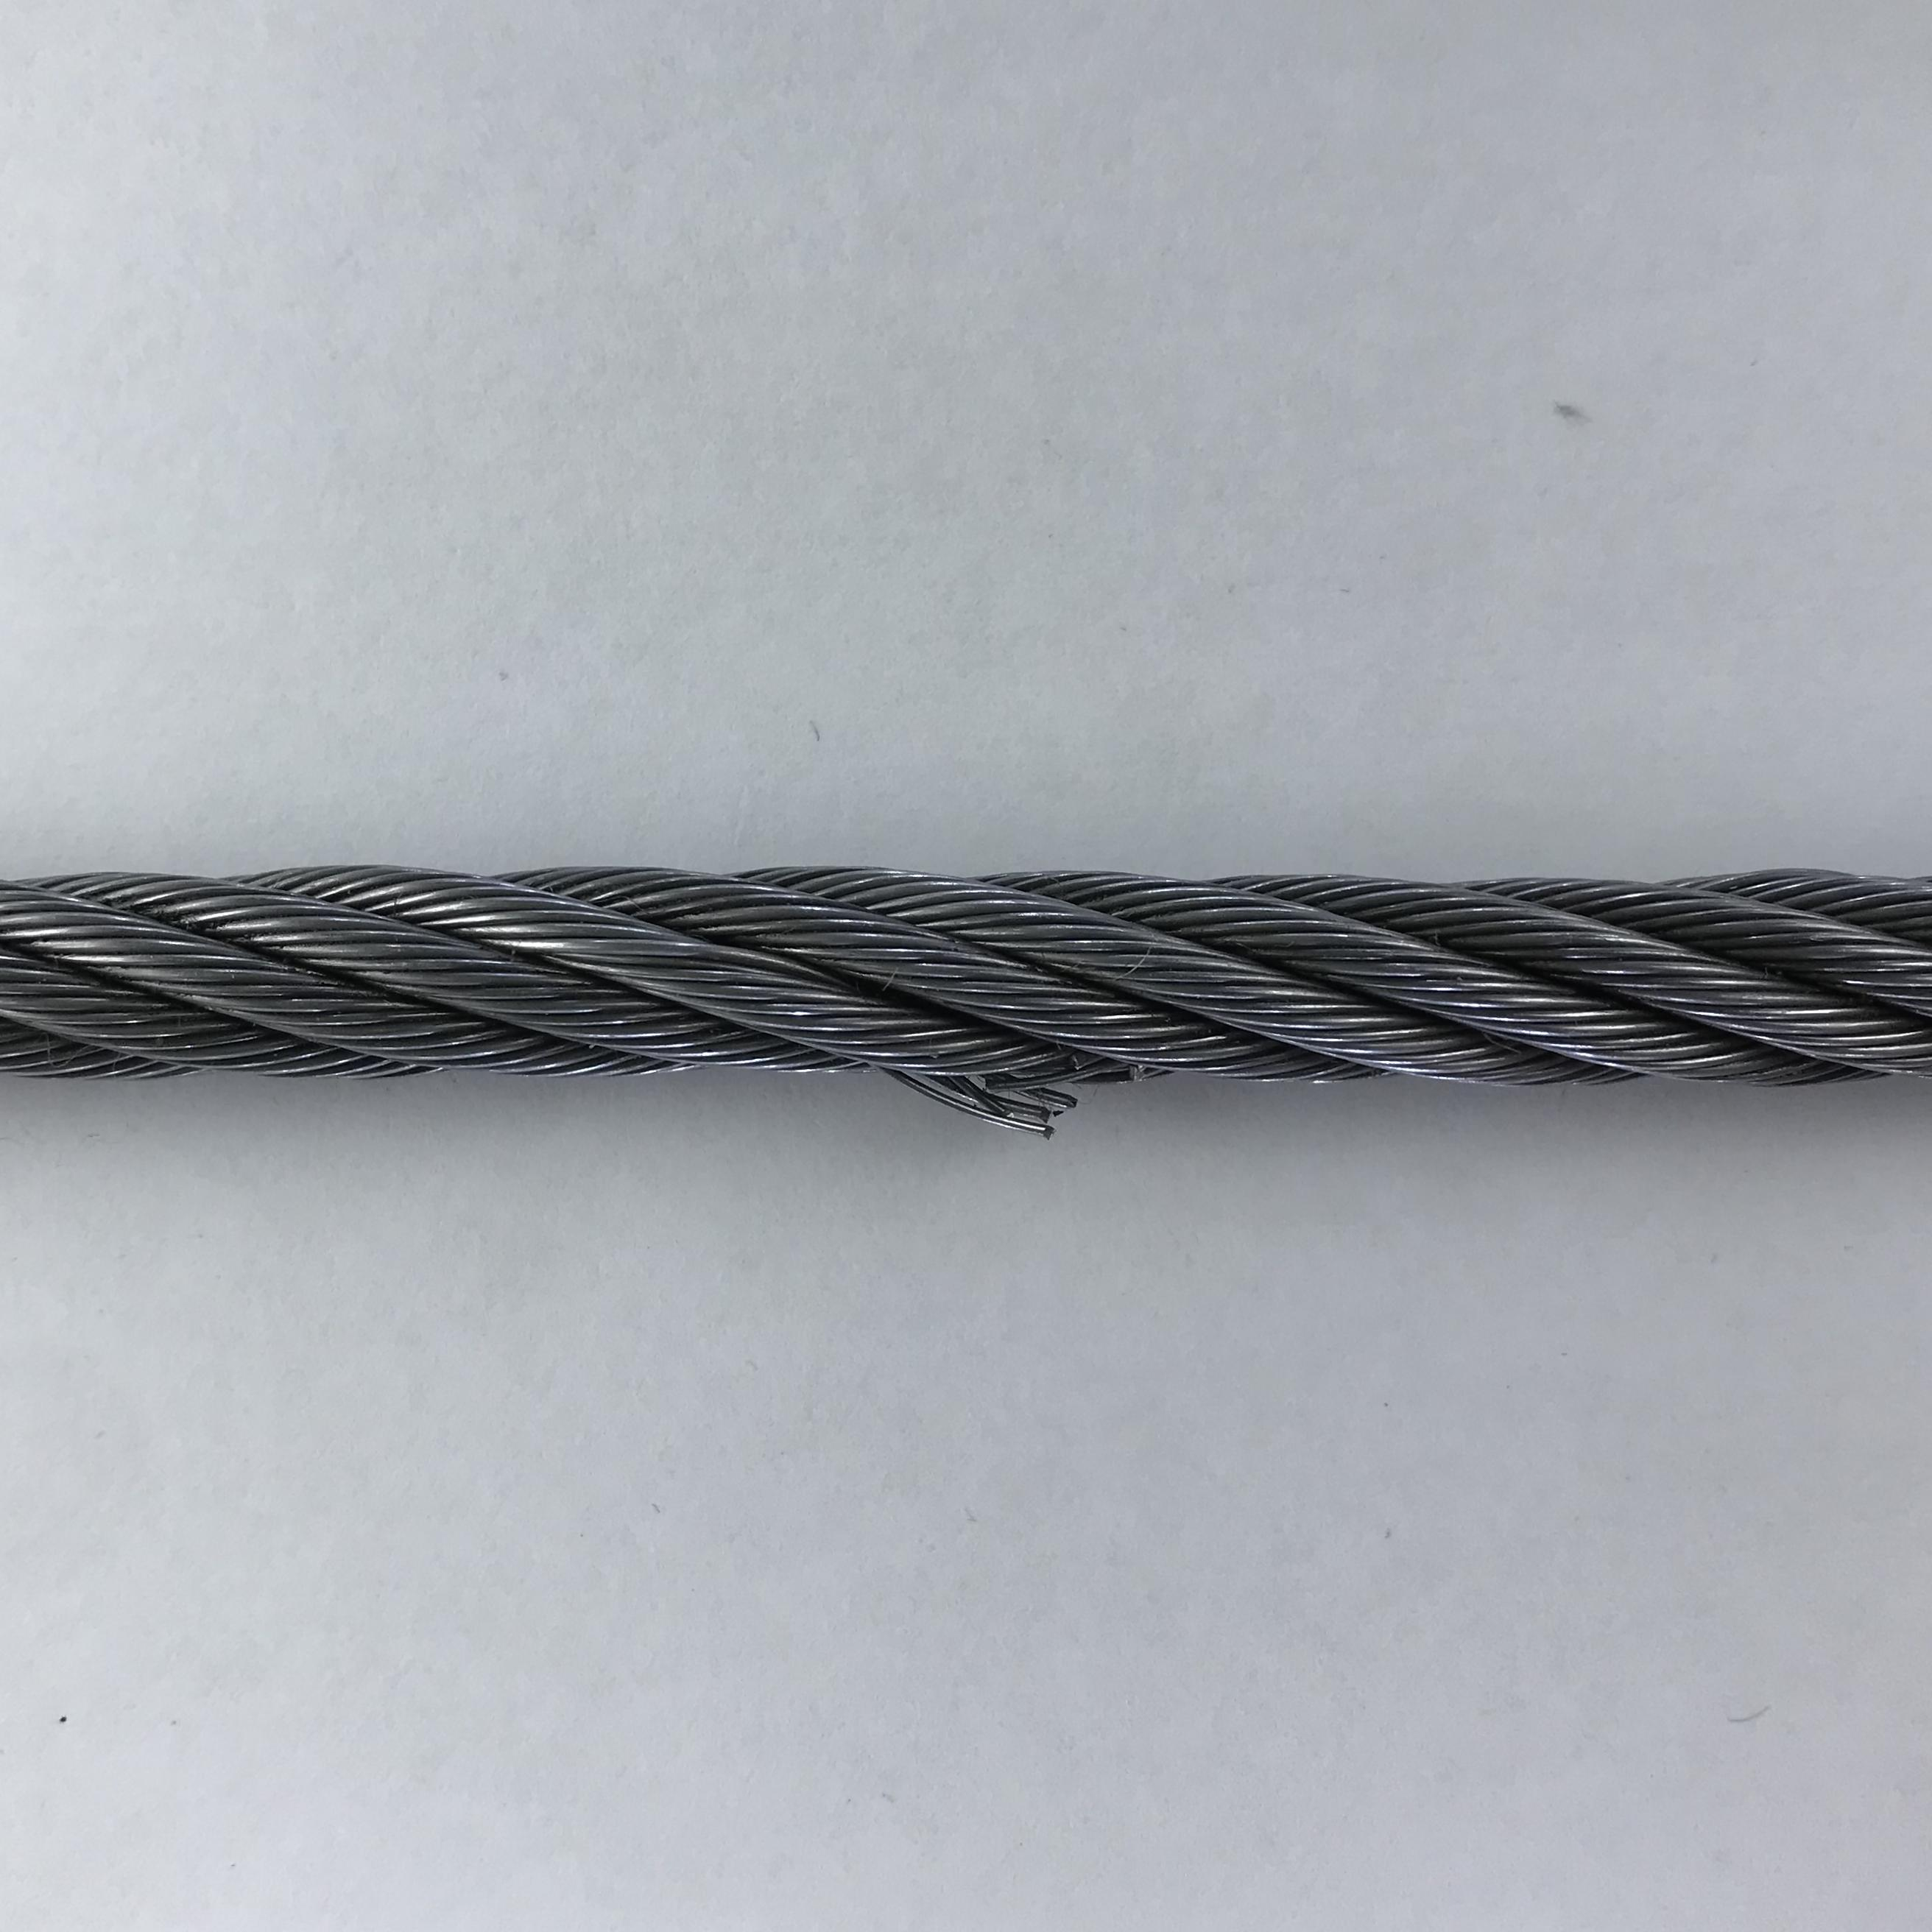break: (901, 1028, 1175, 1148)
